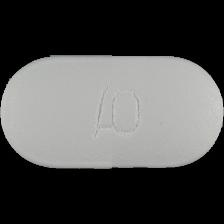63629-3346: (0, 0, 224, 224)
